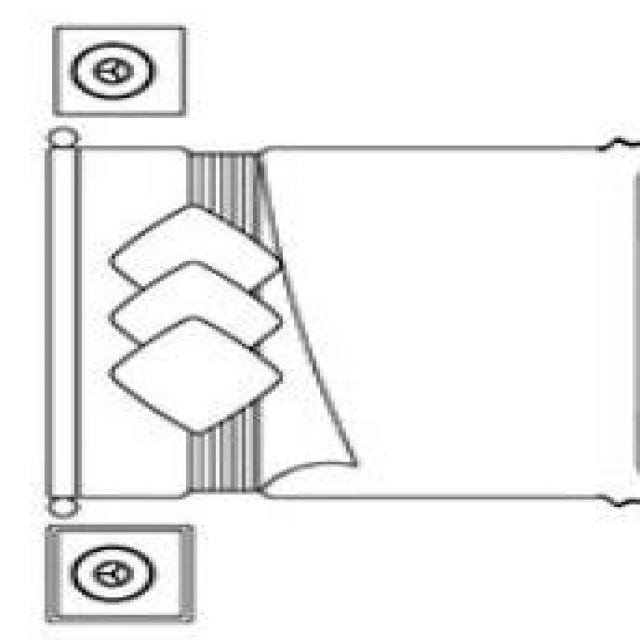bed: (45, 22, 636, 622)
